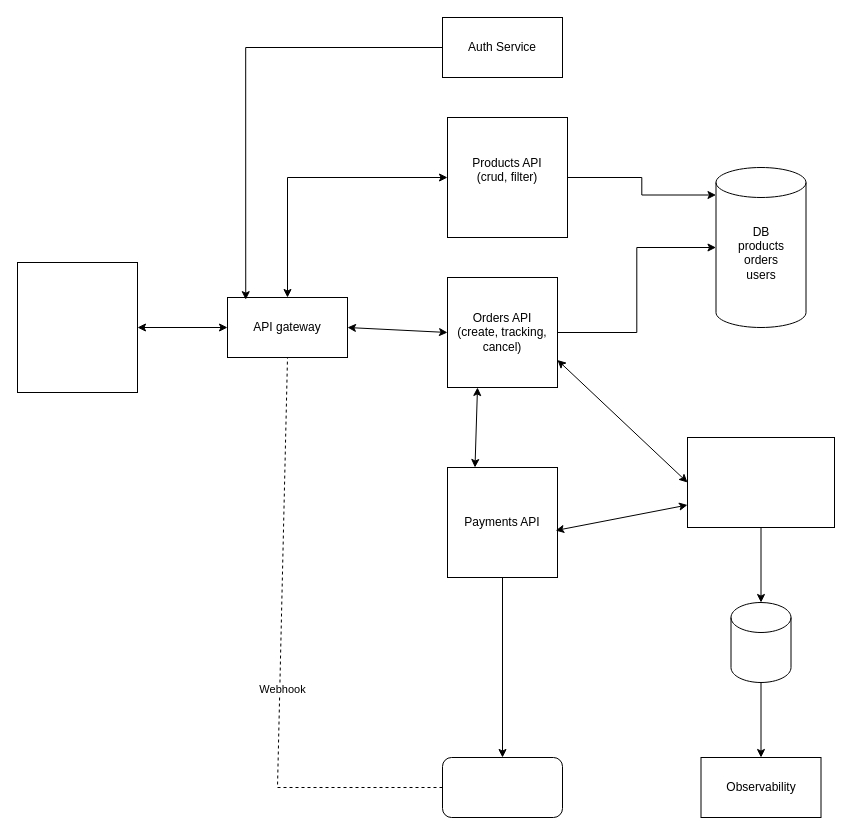
The diagram is 852 pixels wide and 835 high, and some of its shapes have lost their labels. Here are the shapes that lost their labels. From the top down, the box of each, then its label:
(16, 262, 138, 392): Front end ( react )
(686, 436, 834, 528): Rabbit MQ DLQ
(730, 602, 791, 682): Events
(442, 756, 562, 818): X Payment institution
